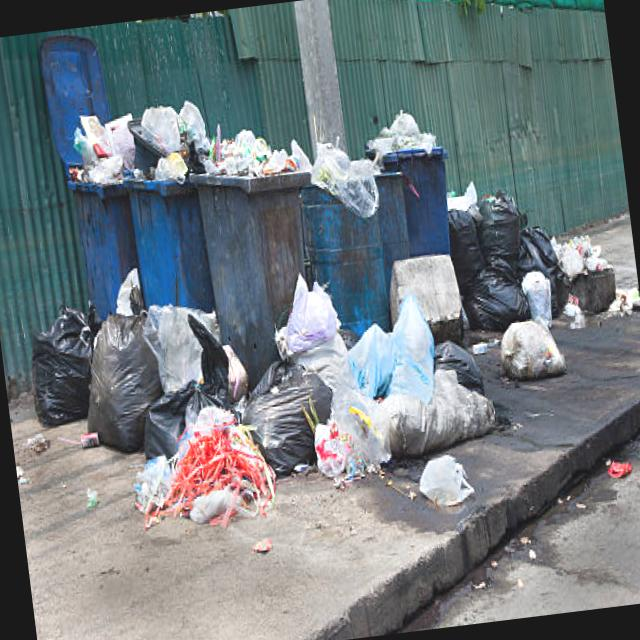garbage: (0, 13, 640, 554)
